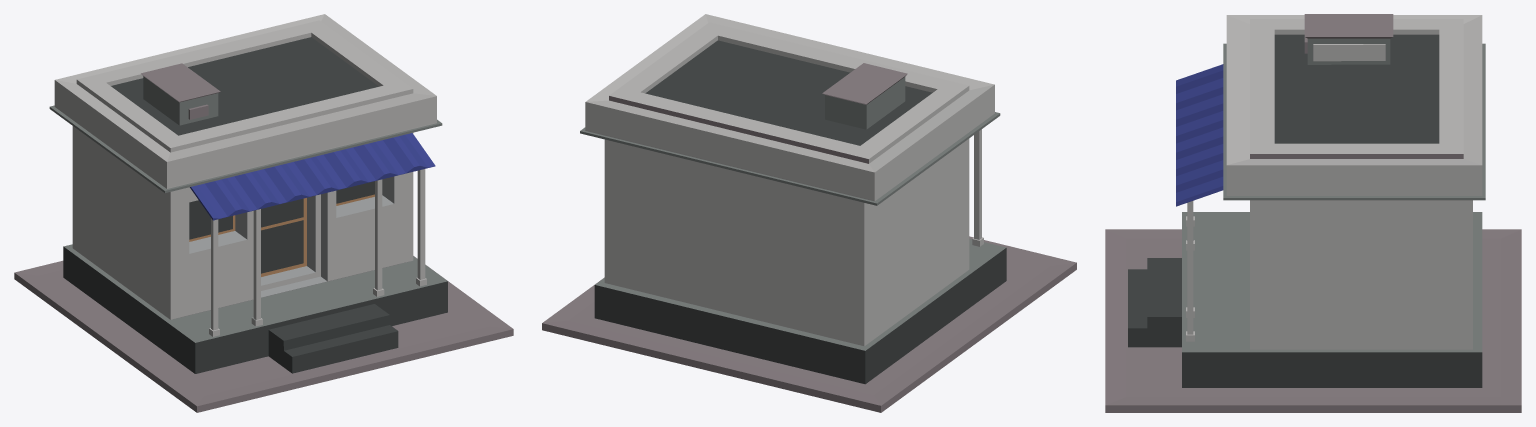
File: building_1x1_1.glb
3 renders of one model, left to right at view 1: azimuth 30°, elevation 25°; view 2: azimuth 150°, elevation 25°; view 3: azimuth 270°, elevation 25°, orthographic. The views are drawn at different scales.
Parts seen in each view (by area): view 1: Building; view 2: Building; view 3: Building.
Part boxes in pixels (box(x1,y1,x2,y2)): Building: box(14, 14, 513, 412); Building: box(542, 14, 1076, 412); Building: box(1105, 14, 1521, 412).
Bounding box in the file's own units: 2 × 1.39 × 2.
